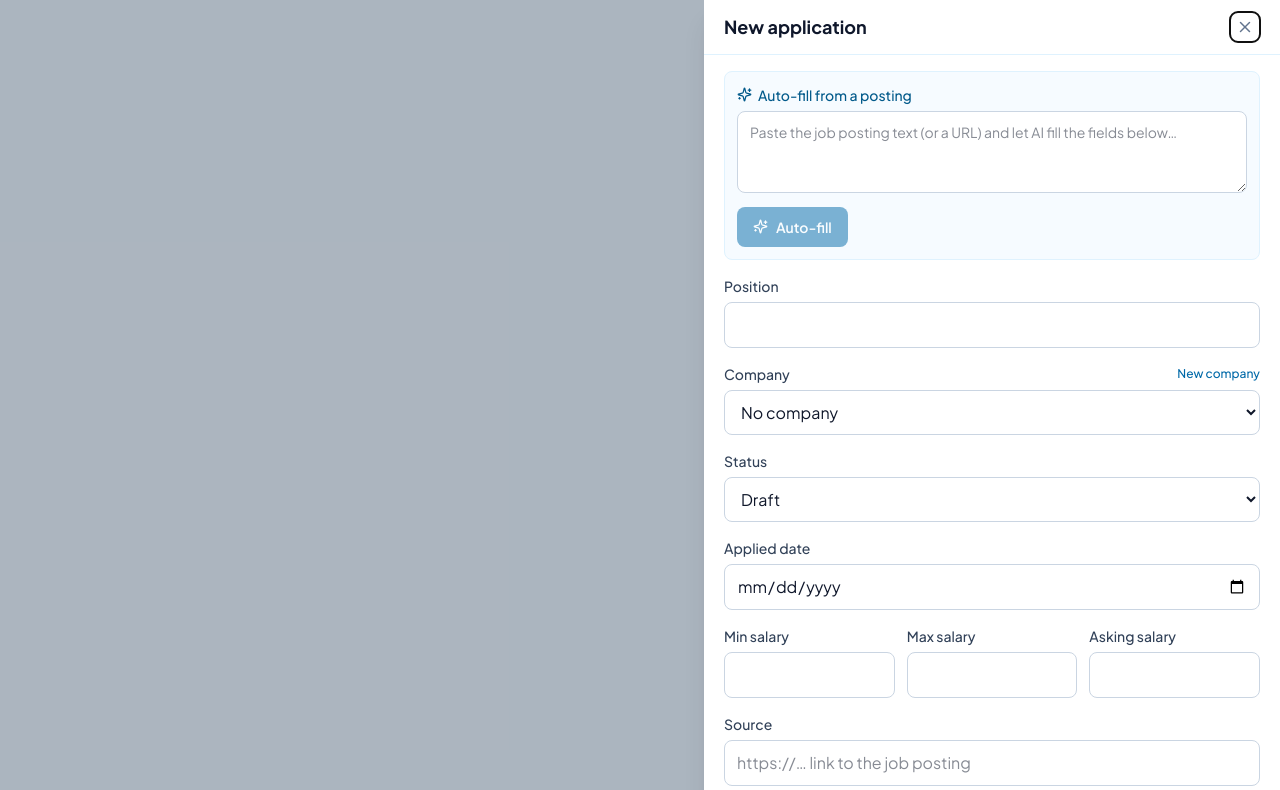
Test: auto-fill prefills a new company when it does not match an existing one
Type "a posting" into the text box labelled "job posting".
click(992, 152); type("a posting")  # box [737,110,1247,192]
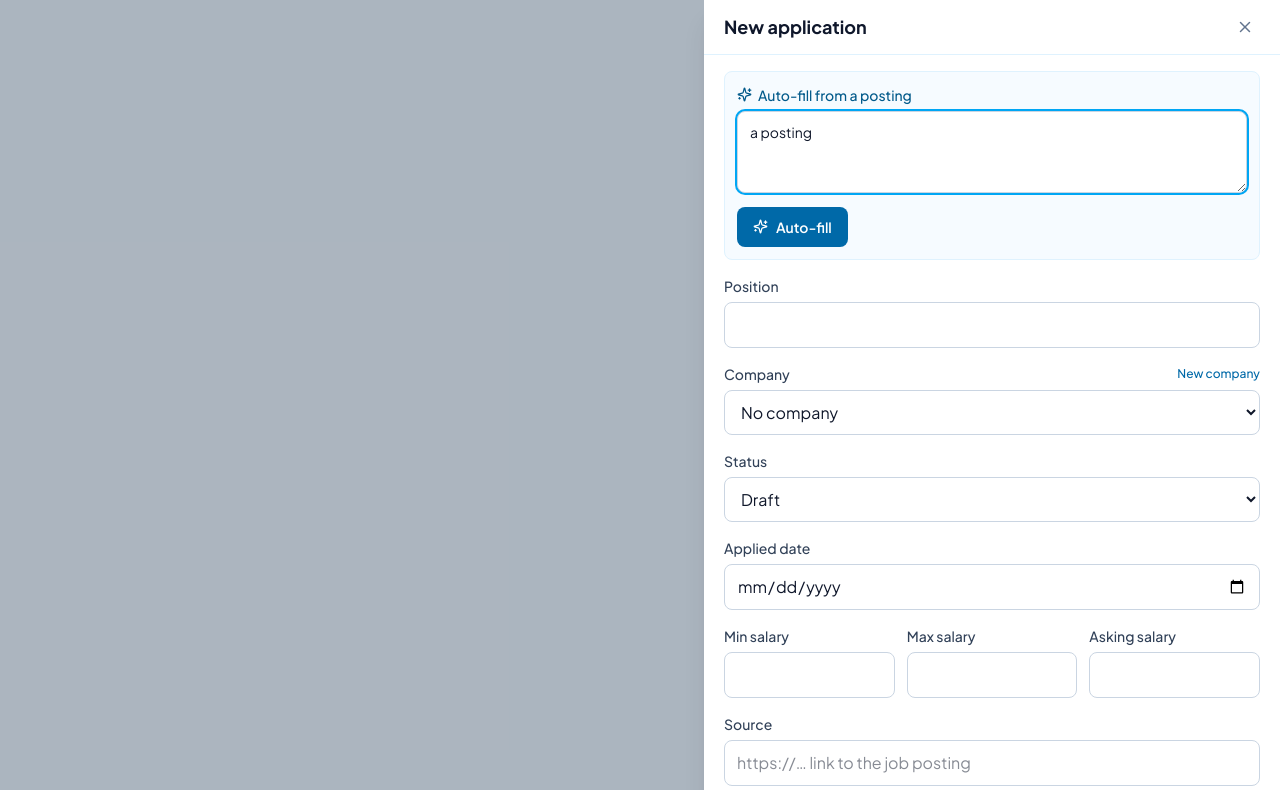
Click the button "Auto-fill".
click(792, 226)  # box [737,206,848,246]
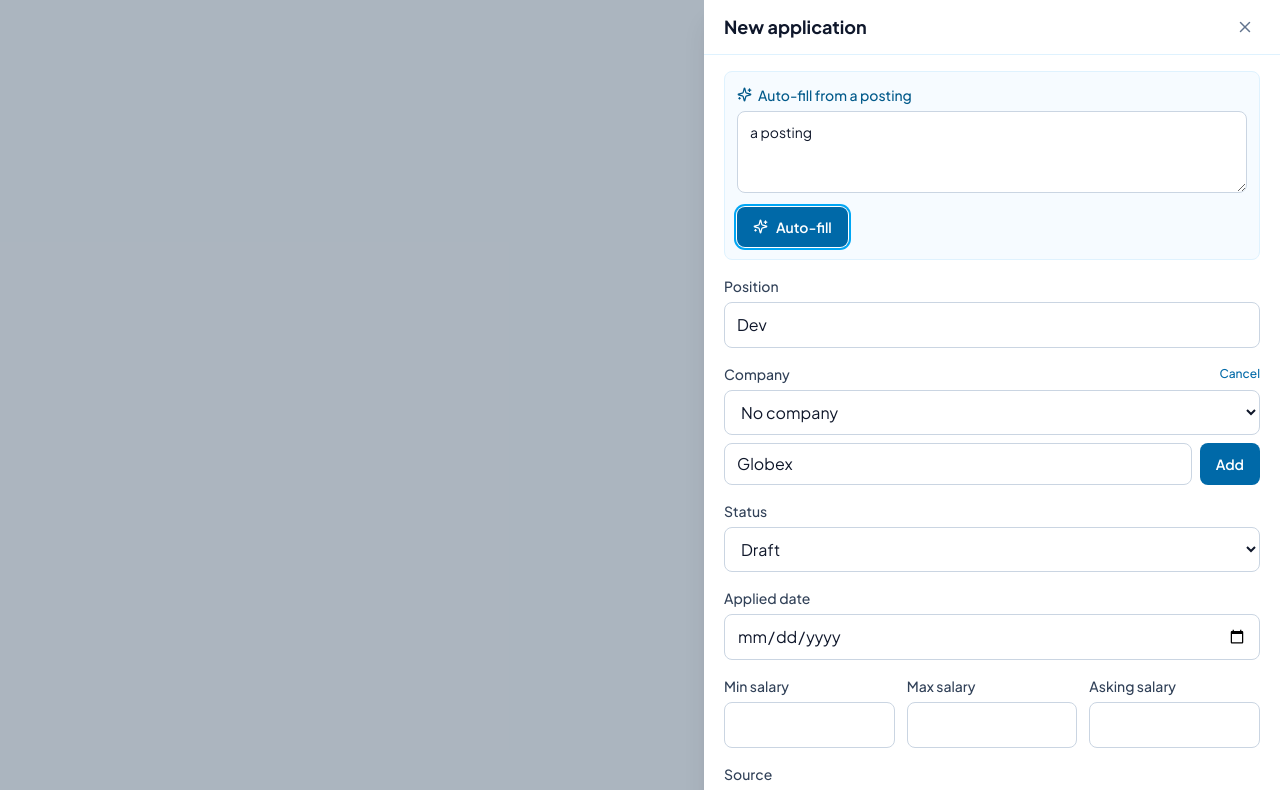
Result: the field named "new company name" holds "Globex" at [724,442,1192,484]
